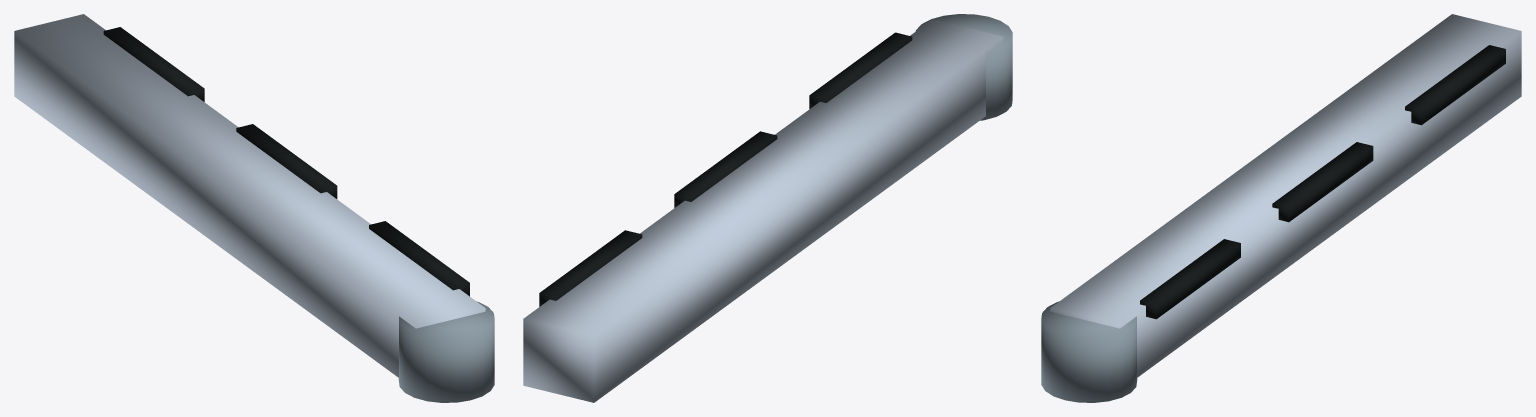
Rendered from 03_L94_FixtureClampLeft.fbx.
3 views of the same model, side by side, from view 1: azimuth 30°, elevation 25°; view 2: azimuth 150°, elevation 25°; view 3: azimuth 330°, elevation 25° (orthographic).
Parts seen in each view (by area): view 1: L94_FixtureClampLeft_Part_0000, L94_FixtureClampLeft_Part_0002, L94_FixtureClampLeft_Part_0001; view 2: L94_FixtureClampLeft_Part_0000, L94_FixtureClampLeft_Part_0001, L94_FixtureClampLeft_Part_0002; view 3: L94_FixtureClampLeft_Part_0000, L94_FixtureClampLeft_Part_0001, L94_FixtureClampLeft_Part_0002.
Boxes of the visible parts, x1,y1,x2,y2 form: L94_FixtureClampLeft_Part_0000: [14, 14, 485, 377]; L94_FixtureClampLeft_Part_0002: [398, 301, 494, 402]; L94_FixtureClampLeft_Part_0001: [103, 27, 469, 296]; L94_FixtureClampLeft_Part_0000: [523, 19, 1003, 402]; L94_FixtureClampLeft_Part_0001: [539, 32, 912, 306]; L94_FixtureClampLeft_Part_0002: [915, 14, 1012, 120]; L94_FixtureClampLeft_Part_0000: [1050, 14, 1521, 377]; L94_FixtureClampLeft_Part_0001: [1140, 45, 1505, 319]; L94_FixtureClampLeft_Part_0002: [1041, 301, 1137, 402].
Size of the model in its own units: 12.5 by 10 by 105.
